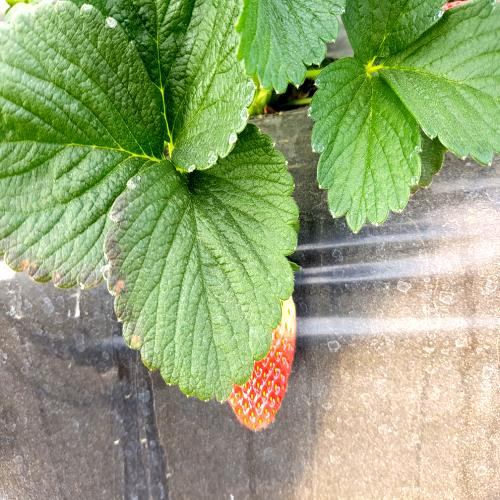partially-ripe: (206, 245, 300, 435)
